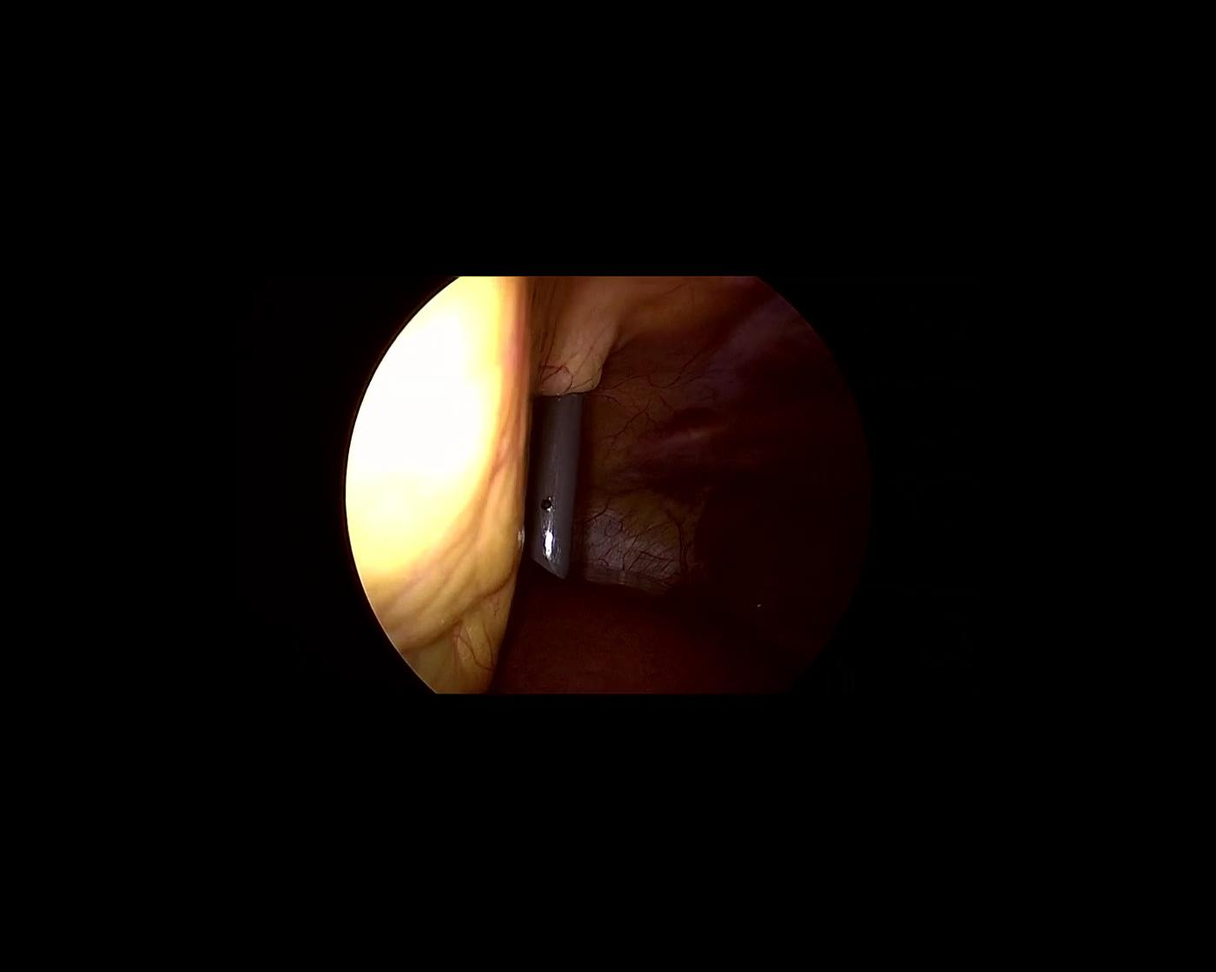Liver: (484, 576, 770, 693)
